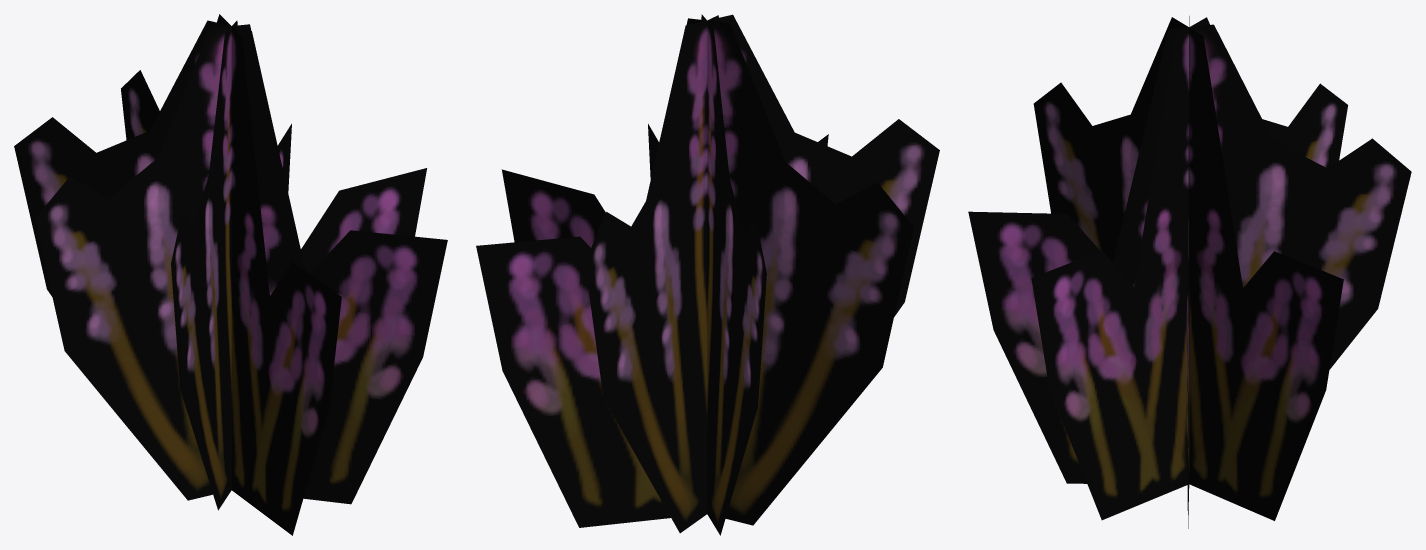
The model's file is SM_FlowersPlant_06.fbx.
3 renders of one model, left to right at view 1: azimuth 30°, elevation 25°; view 2: azimuth 150°, elevation 25°; view 3: azimuth 270°, elevation 25°, orthographic. The views are drawn at different scales.
Visible parts, largest first — view 1: SM_FlowersPlant_06; view 2: SM_FlowersPlant_06; view 3: SM_FlowersPlant_06.
Part boxes in pixels (left/top/right/bottom): SM_FlowersPlant_06: left=14, top=14, right=447, bottom=535; SM_FlowersPlant_06: left=476, top=14, right=939, bottom=535; SM_FlowersPlant_06: left=968, top=16, right=1411, bottom=528.
Bounding box in the file's own units: 29.36 × 29.36 × 33.59.
Materials: 1 (1 with a texture image).
